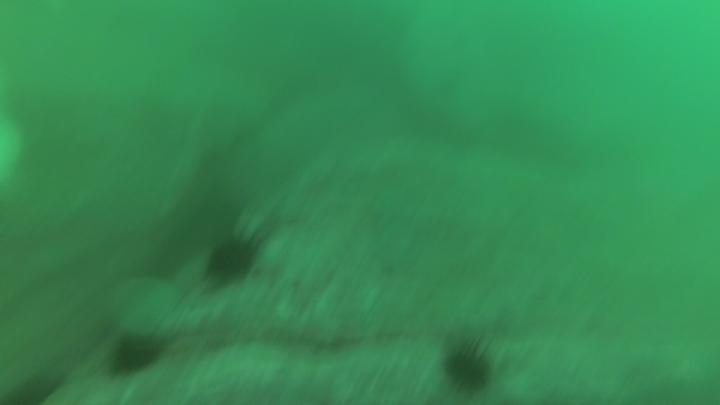echinus: (449, 352, 492, 395), (209, 240, 254, 278), (115, 339, 157, 375)
